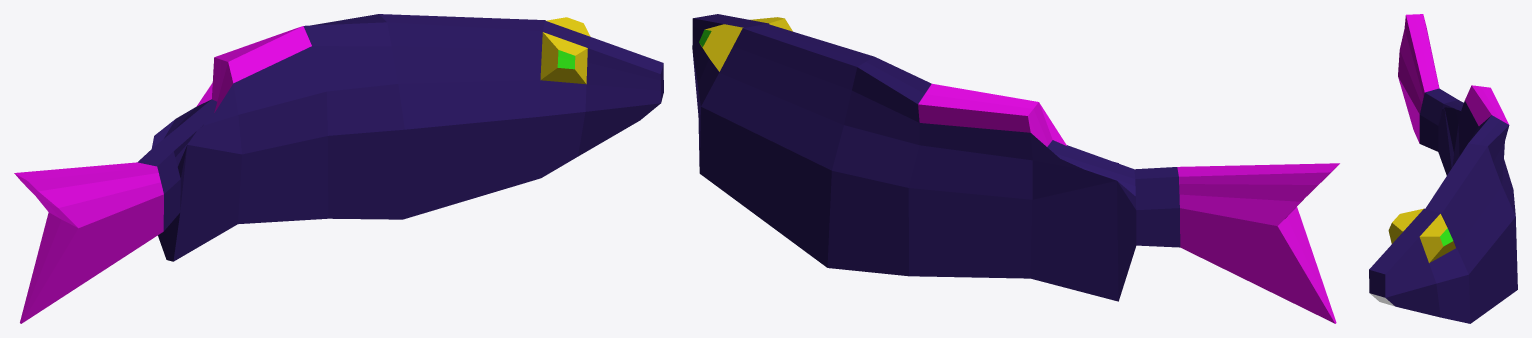
File: fish2.fbx
3 renders of one model, left to right at view 1: azimuth 30°, elevation 25°; view 2: azimuth 150°, elevation 25°; view 3: azimuth 270°, elevation 25°, orthographic. The views are drawn at different scales.
Visible parts, largest first — view 1: Fishy; view 2: Fishy; view 3: Fishy.
Part boxes in pixels (bbox=[...]): Fishy: bbox=[14, 14, 663, 323]; Fishy: bbox=[692, 14, 1339, 323]; Fishy: bbox=[1369, 14, 1517, 323].
Bounding box in the file's own units: 86.31 × 23.95 × 22.56.
